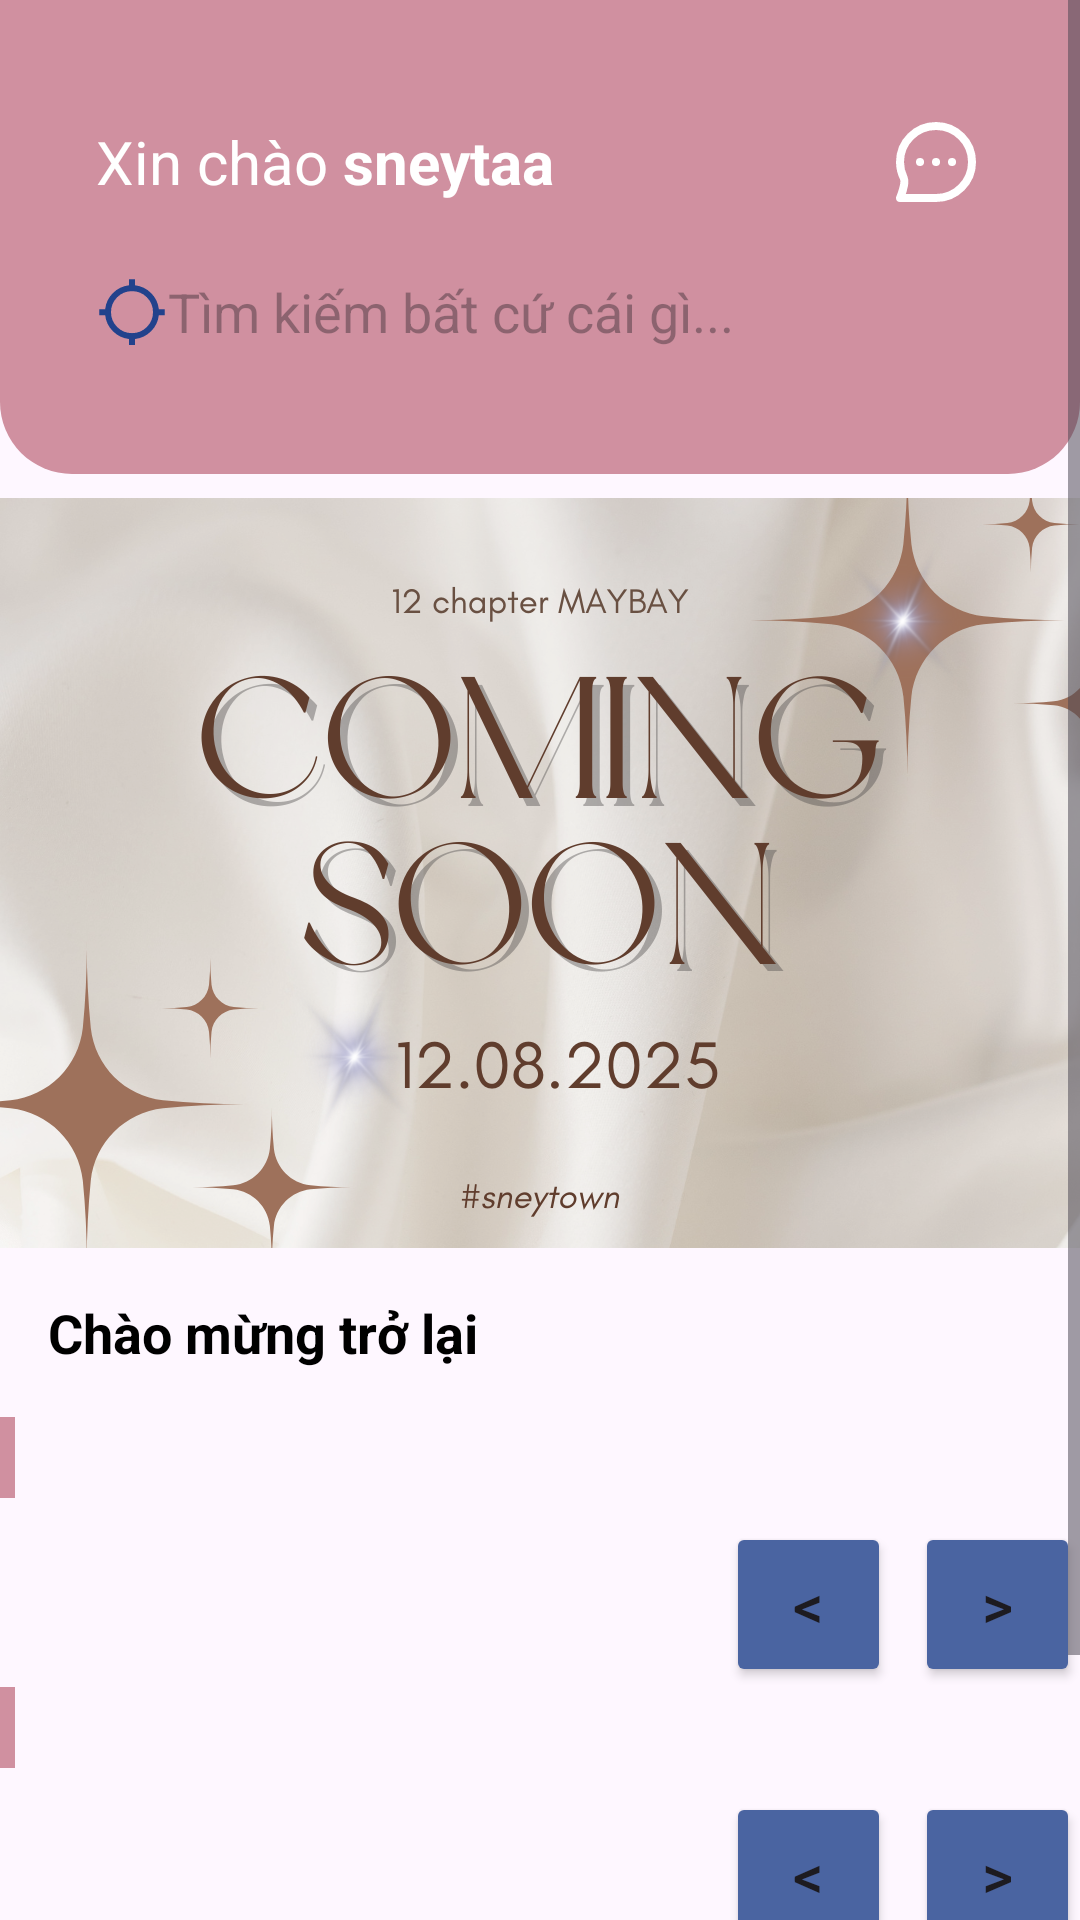

Screen size 1080px x 1920px. Icon name, then its box in pixels as bbox=(x1, y1, x2, y2):
mess: bbox=(896, 122, 976, 202)
